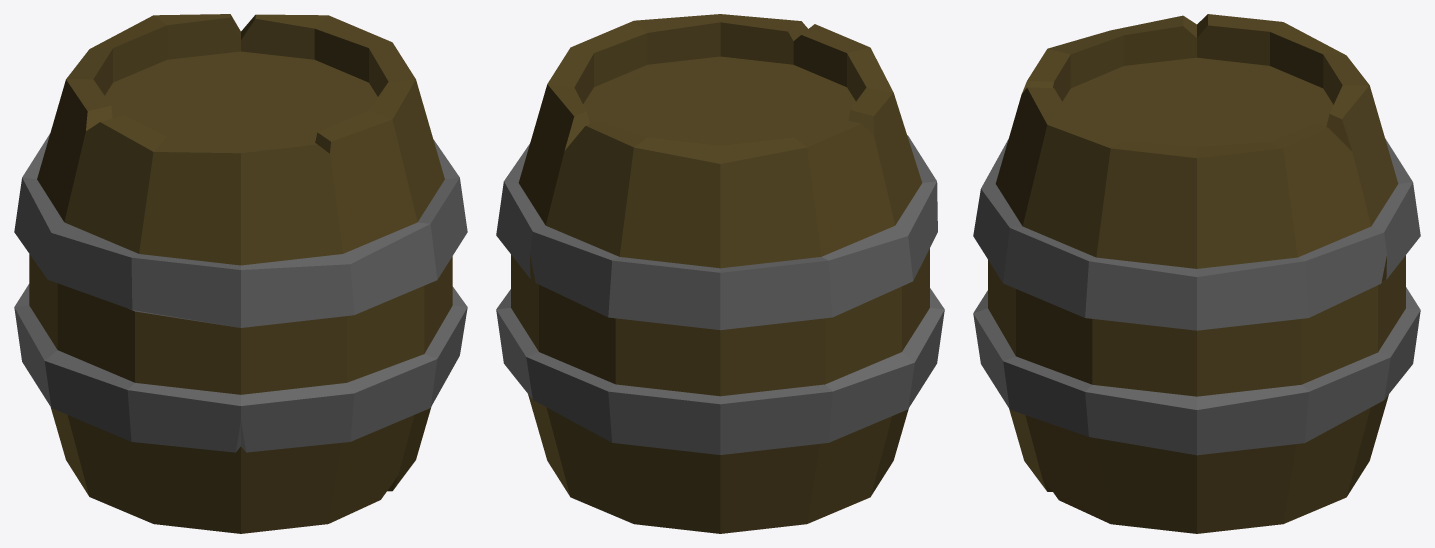
The model's file is barrel.fbx.
The picture shows the model from 3 angles, left to right: view 1: azimuth 30°, elevation 25°; view 2: azimuth 150°, elevation 25°; view 3: azimuth 270°, elevation 25°; orthographic projection.
Parts seen in each view (by area): view 1: barrel; view 2: barrel; view 3: barrel.
Part boxes in pixels (x1,y1,x2,y2): barrel: (14, 14, 467, 533); barrel: (496, 14, 944, 533); barrel: (973, 14, 1420, 533).
Bounding box in the file's own units: 130 × 120 × 130.
